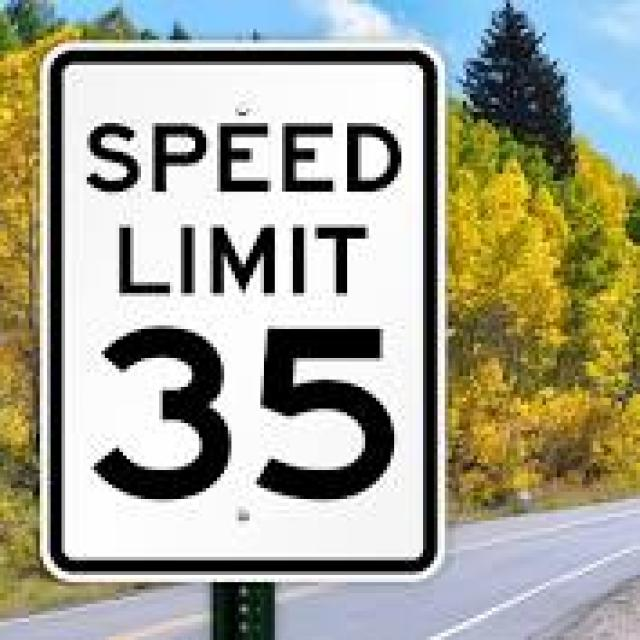speedLimit35: (31, 34, 457, 592)
